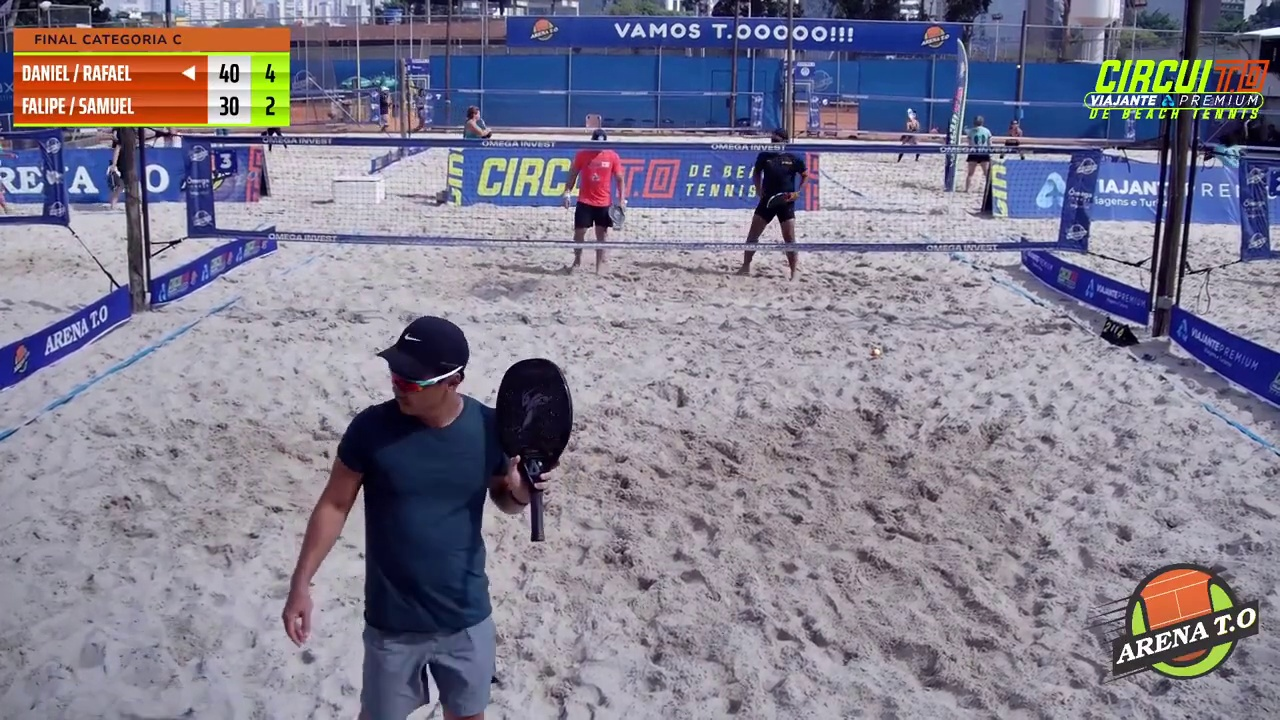court_line: (644, 0, 812, 339)
